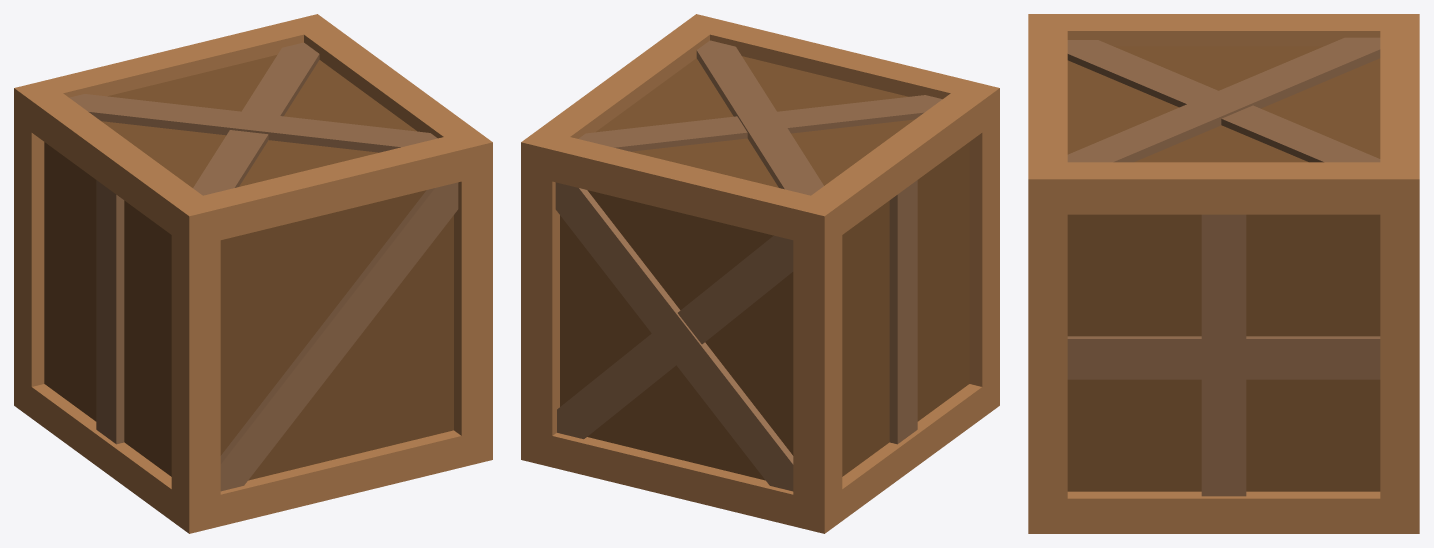
The model's file is crate_wood.fbx.
3 views of the same model, side by side, from view 1: azimuth 30°, elevation 25°; view 2: azimuth 150°, elevation 25°; view 3: azimuth 270°, elevation 25° (orthographic). The views are drawn at different scales.
Parts seen in each view (by area): view 1: ambientLight2; view 2: ambientLight2; view 3: ambientLight2.
Part boxes in pixels (bbox=[...]): ambientLight2: bbox=[14, 14, 492, 533]; ambientLight2: bbox=[521, 14, 999, 533]; ambientLight2: bbox=[1028, 14, 1419, 533].
Bounding box in the file's own units: 3.6 × 3.6 × 3.6.
